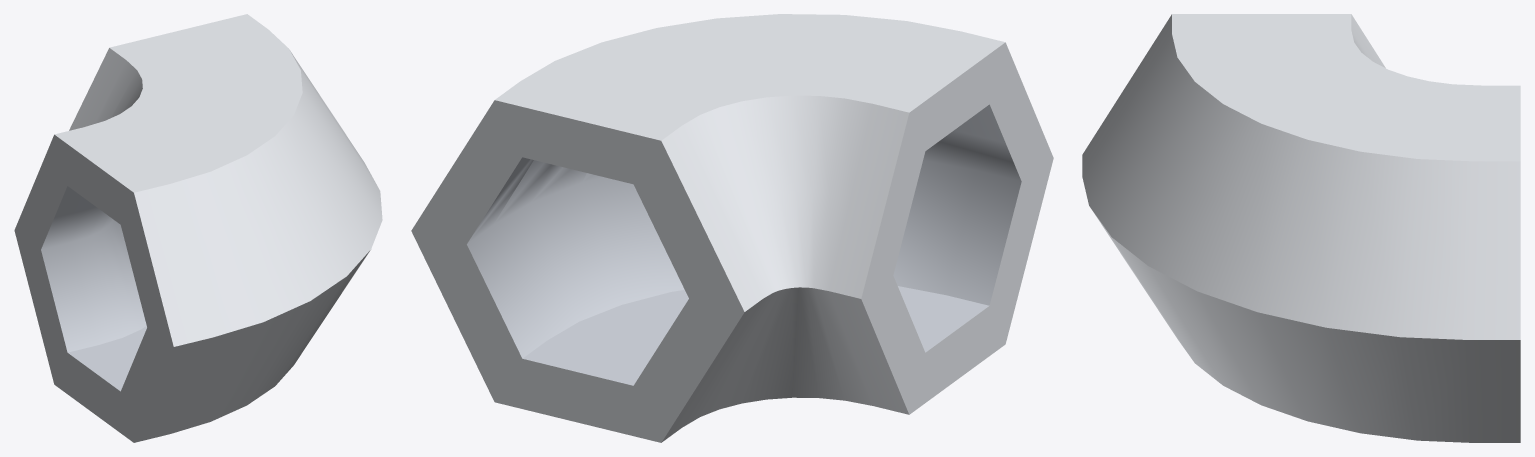
The model's file is pipe_cornerRound.glb.
3 renders of one model, left to right at view 1: azimuth 30°, elevation 25°; view 2: azimuth 150°, elevation 25°; view 3: azimuth 270°, elevation 25°, orthographic. The views are drawn at different scales.
Parts seen in each view (by area): view 1: pipe_cornerRound; view 2: pipe_cornerRound; view 3: pipe_cornerRound.
Boxes of the visible parts, <box> form: pipe_cornerRound: <box>14,14,382,442</box>; pipe_cornerRound: <box>411,14,1053,442</box>; pipe_cornerRound: <box>1082,14,1520,442</box>.
Size of the model in its own units: 0.8464 by 0.6 by 0.8464.
1 material, 1 textured.
